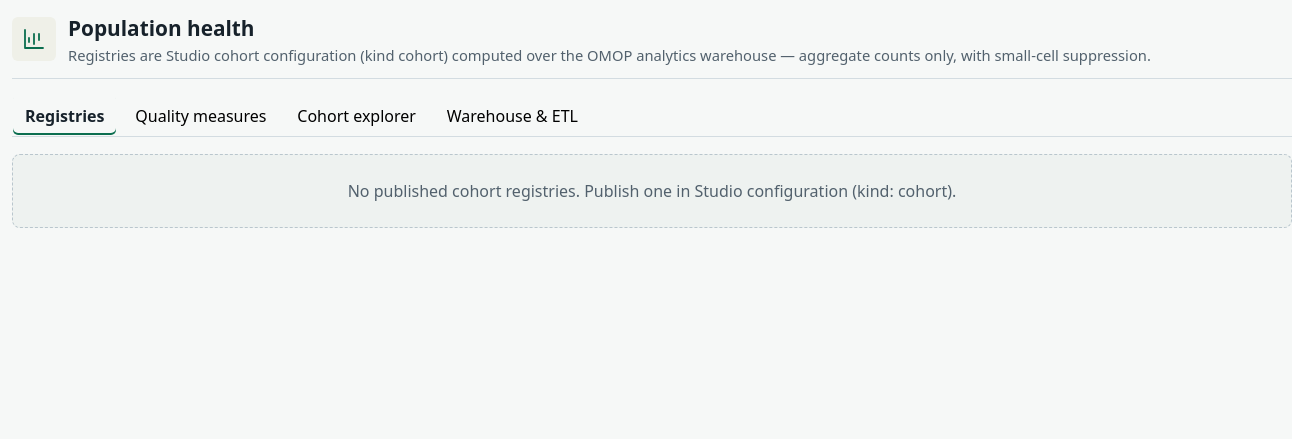
Test: SchedulingPage / PopHealthPage tab smoke › PopHealth: tabs switch panels and the explorer validates the lab threshold inline
Expected: the text "No published cohort registries" is shown, [348,180,956,202]
Click the tab "Cohort explorer": (357, 116) [284,95,429,136]
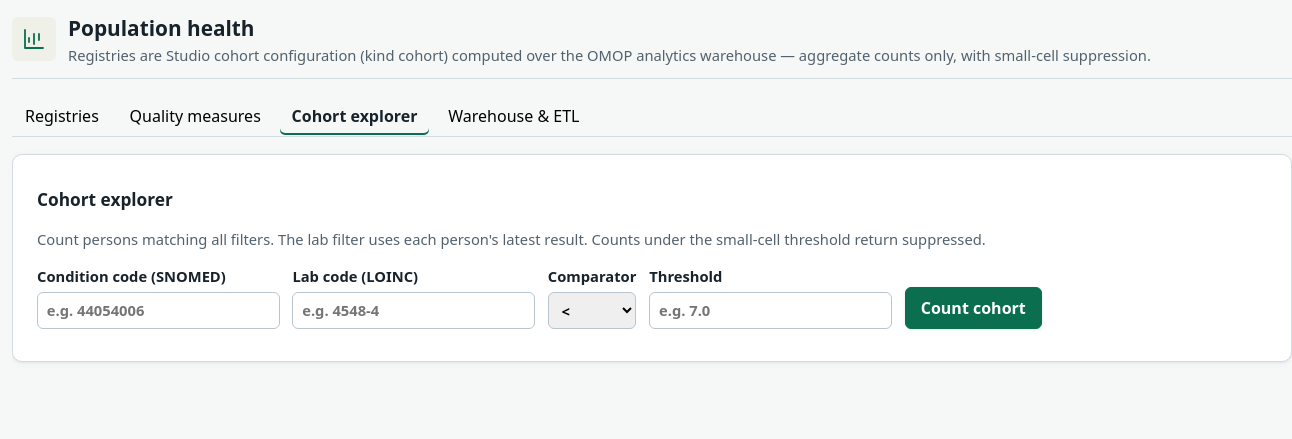
In the field with placeholder "e.g. 4548-4": (414, 311) [292,292,535,329], type "4548-4"
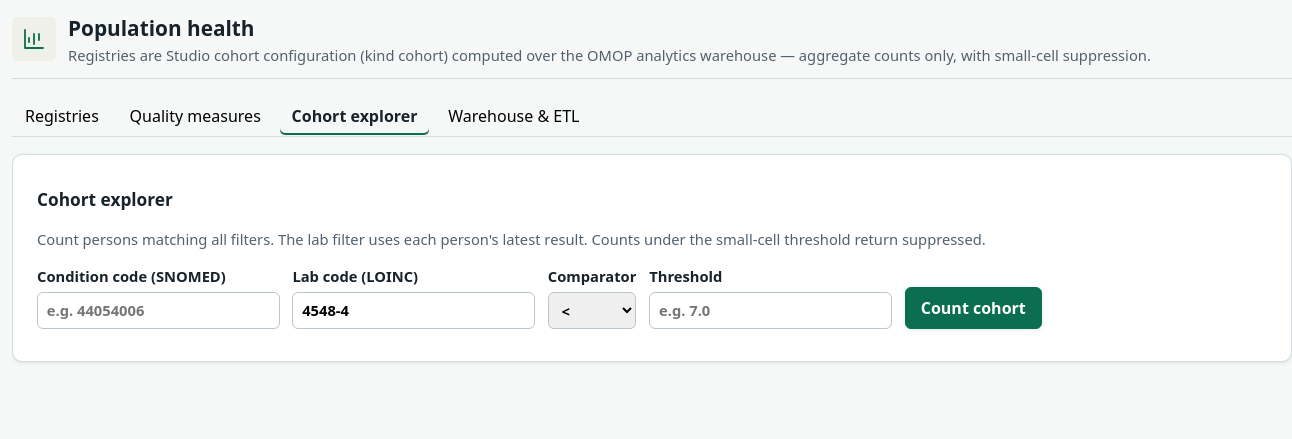
Click the button "Count cohort": (973, 308) [905,287,1042,329]
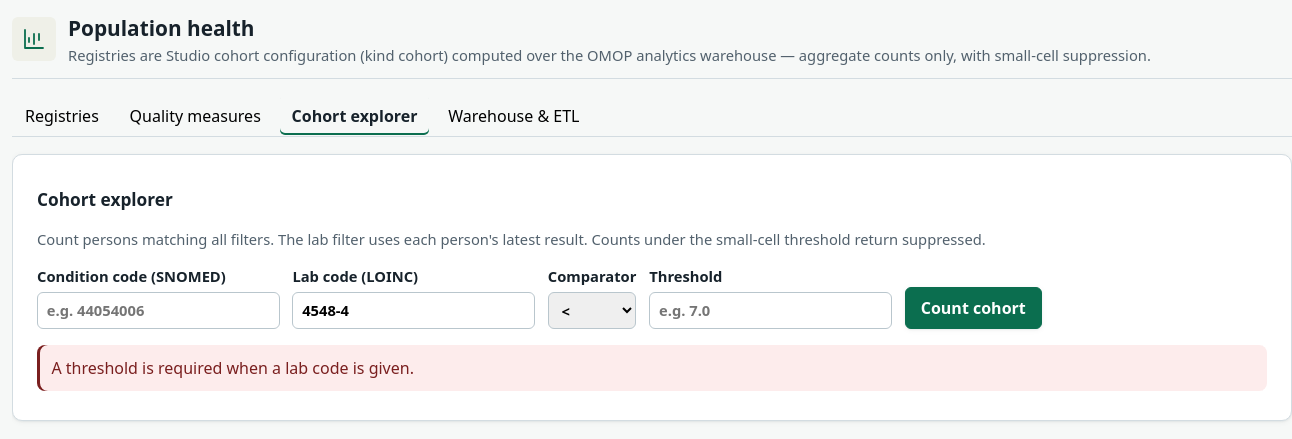
Expected: the text "A threshold is required when a lab code is given." is shown, [37,345,1267,391]
